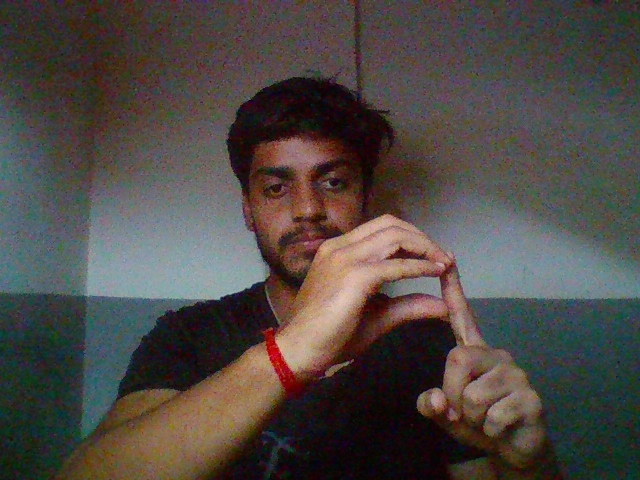P: (276, 206, 565, 467)
